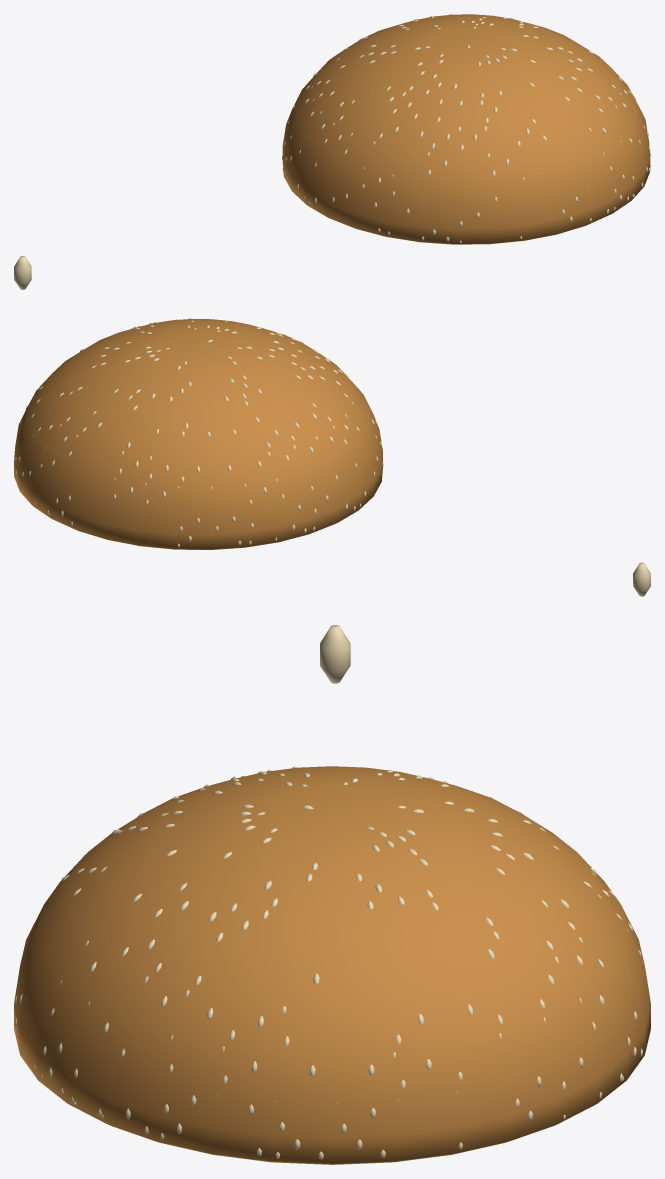
The model's file is panarriba.glb.
The picture shows the model from 3 angles, top to bottom: view 1: azimuth 30°, elevation 25°; view 2: azimuth 150°, elevation 25°; view 3: azimuth 270°, elevation 25°; orthographic projection. The views are drawn at different scales.
Parts seen in each view (by area): view 1: PAN_SUP, SEMILLA; view 2: PAN_SUP, SEMILLA; view 3: PAN_SUP, SEMILLA.
Part boxes in pixels (box(x1,y1,x2,y2)): PAN_SUP: box(282, 14, 650, 244); SEMILLA: box(14, 256, 31, 289); PAN_SUP: box(14, 319, 382, 549); SEMILLA: box(633, 562, 650, 596); PAN_SUP: box(14, 766, 650, 1164); SEMILLA: box(320, 625, 350, 683).
Size of the model in its own units: 11.81 by 2.62 by 6.18.
